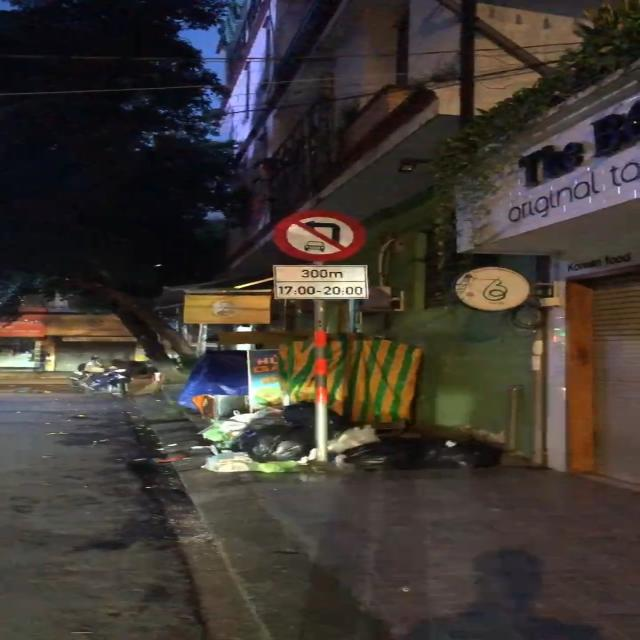Bien bao cam xe o to re trai: (262, 208, 371, 266)
